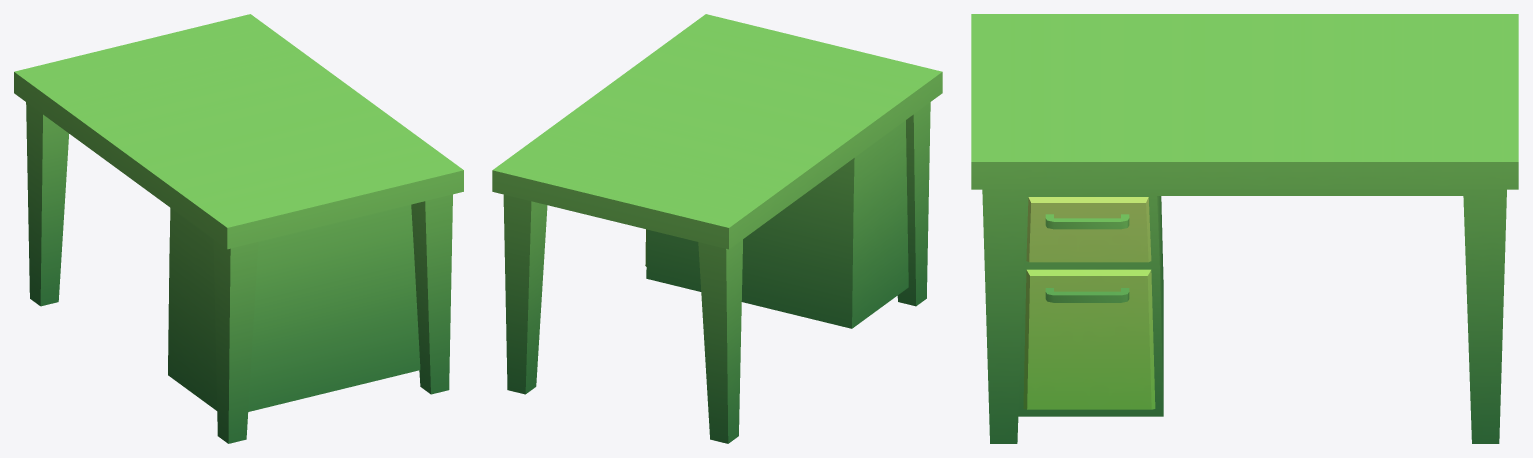
The model's file is Desk.fbx.
3 renders of one model, left to right at view 1: azimuth 30°, elevation 25°; view 2: azimuth 150°, elevation 25°; view 3: azimuth 270°, elevation 25°, orthographic. The views are drawn at different scales.
Visible parts, largest first — view 1: Desk; view 2: Desk; view 3: Desk.
Part boxes in pixels (x1,y1,x2,y2): Desk: [14, 14, 463, 443]; Desk: [492, 14, 942, 443]; Desk: [971, 14, 1518, 443].
Size of the model in its own units: 116 by 104 by 180.
